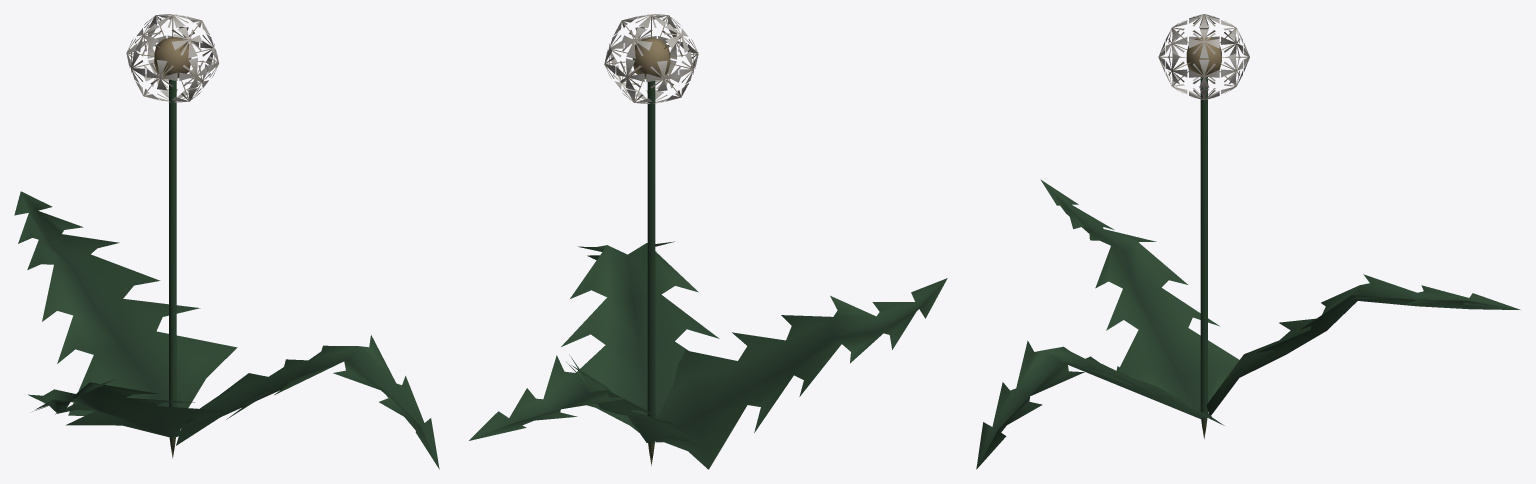
File: plants-flowers-dandelion_v1.fbx
The picture shows the model from 3 angles, left to right: view 1: azimuth 30°, elevation 25°; view 2: azimuth 150°, elevation 25°; view 3: azimuth 270°, elevation 25°; orthographic projection. The views are drawn at different scales.
Parts seen in each view (by area): view 1: Dandelion; view 2: Dandelion; view 3: Dandelion.
Part boxes in pixels (x1=…): Dandelion: x1=14, y1=14, x2=439, y2=469; Dandelion: x1=469, y1=14, x2=947, y2=469; Dandelion: x1=976, y1=14, x2=1520, y2=469.
Bounding box in the file's own units: 0.2187 × 0.2576 × 0.3.
